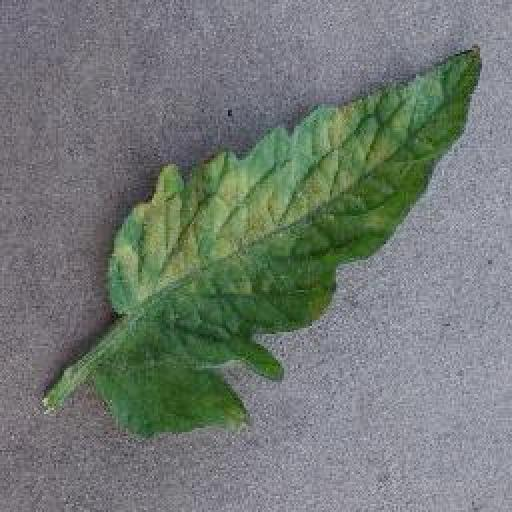disease_tomato: (94, 44, 484, 438)
